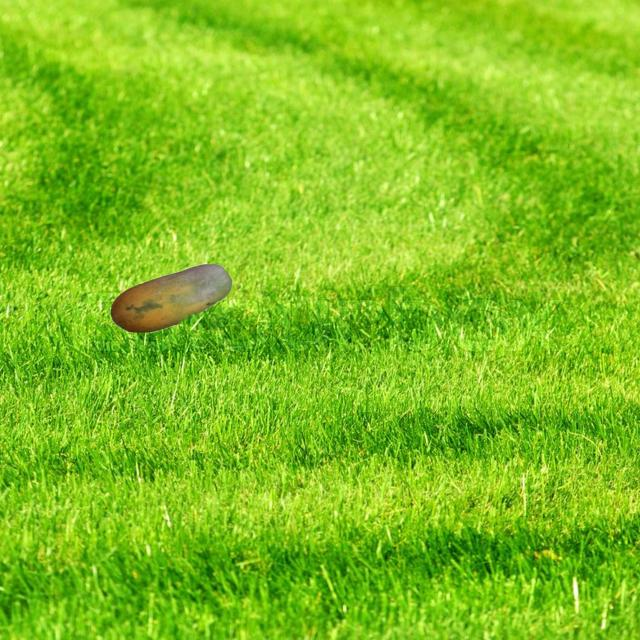Pepaya rippen: (104, 256, 236, 334)
